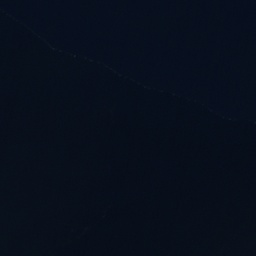Marine Debris: (38, 36, 256, 126)
